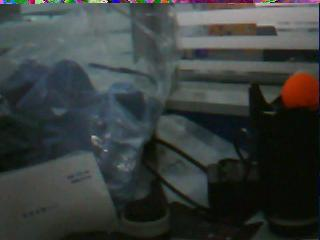oball: (281, 73, 318, 106)
